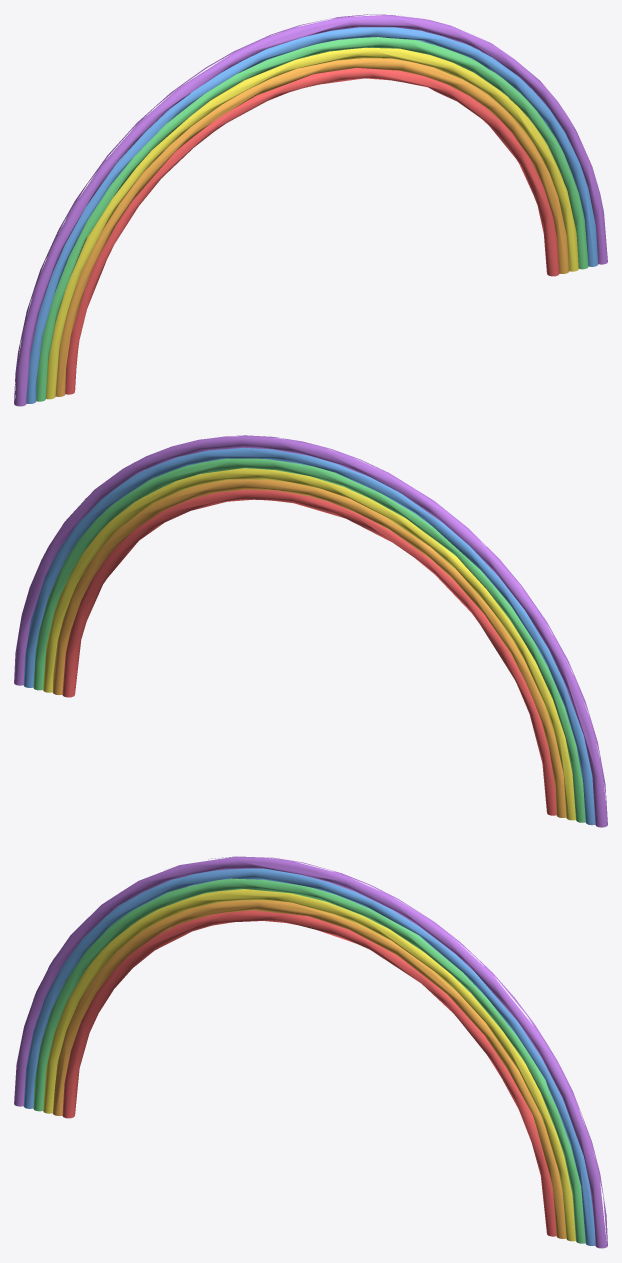
Rendered from sp_rbarch.glb.
The picture shows the model from 3 angles, top to bottom: view 1: azimuth 30°, elevation 25°; view 2: azimuth 150°, elevation 25°; view 3: azimuth 330°, elevation 25°; orthographic projection.
Bounding box in the file's own units: 19.56 × 9.77 × 0.36.
